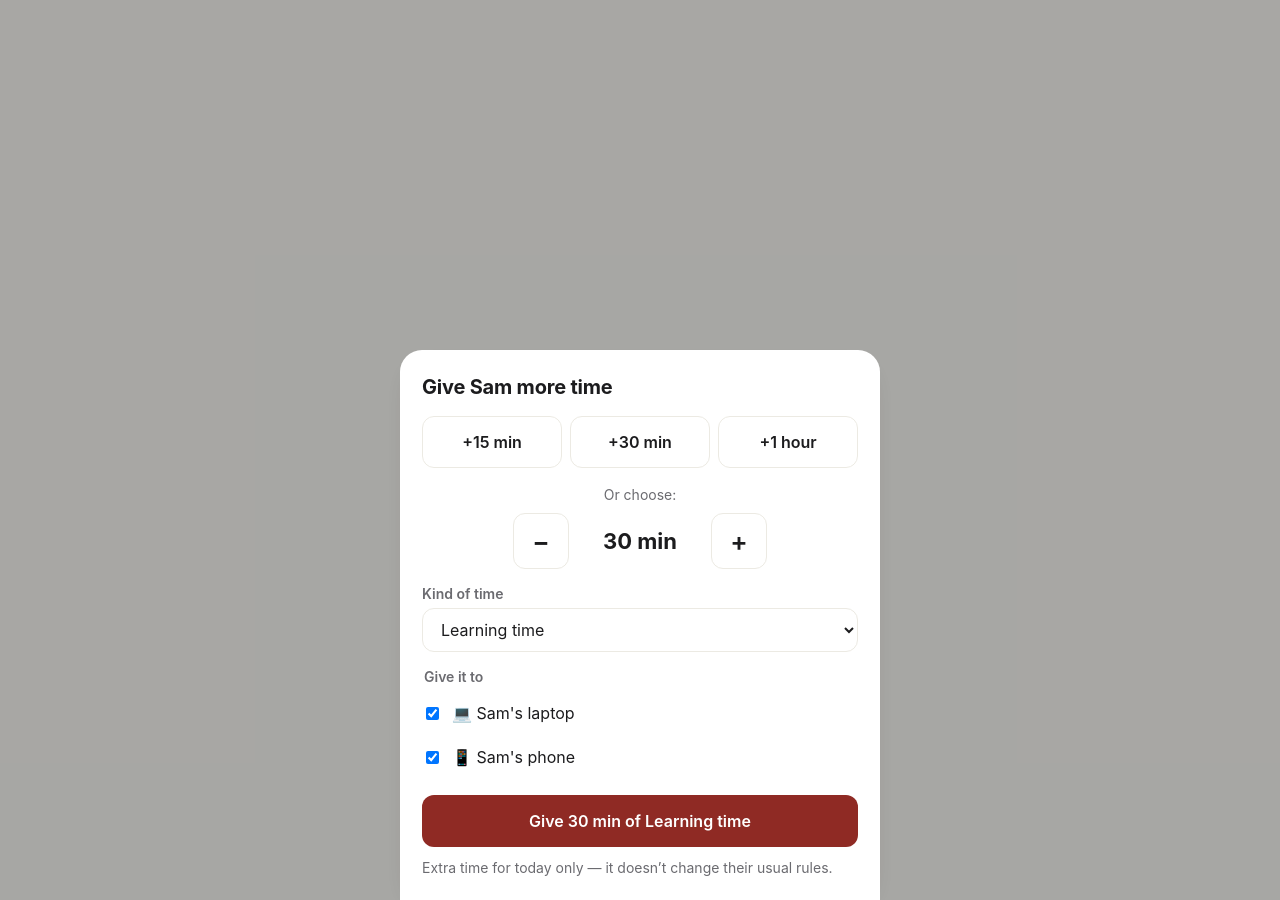
Test: More time with times › with nobody chosen, nothing can be sent
Click the checkbox labelled "💻 Sam's laptop". click: [432, 713]
box: [426,706,439,720]
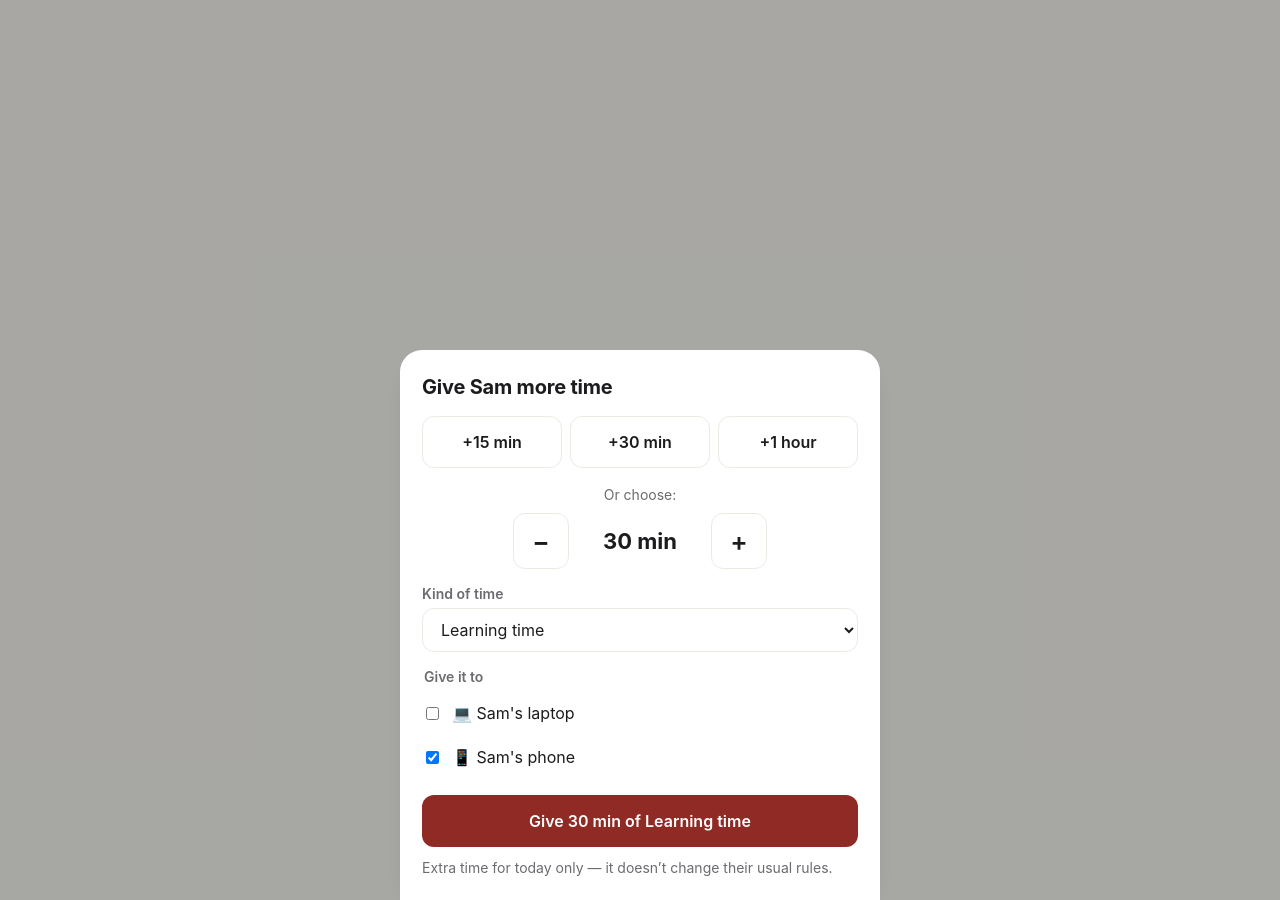
Click the checkbox labelled "📱 Sam's phone". click: [432, 757]
box: [426,750,439,764]
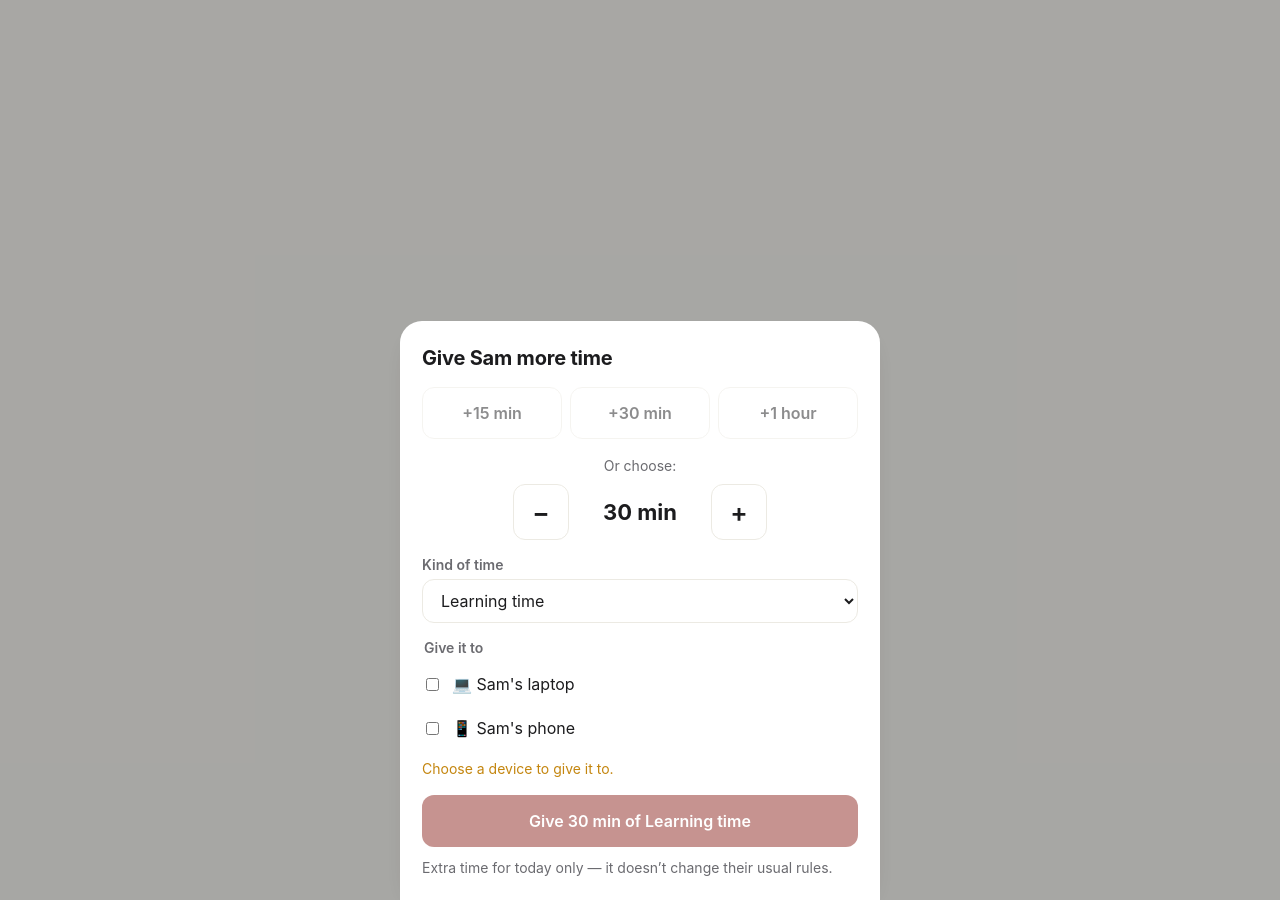
Expected: the text "Choose a device to give it to." is shown, [422,760,614,777]
Expected: the button "+30 min" is disabled, [570,387,710,439]
Expected: the button "Give 30 min of Learning time" is disabled, [422,795,858,847]
